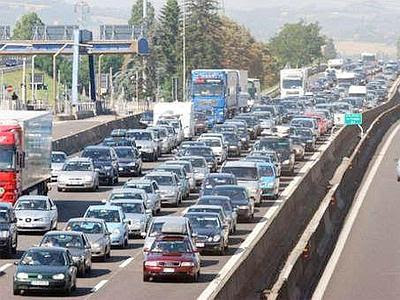car: (17, 221, 86, 298)
